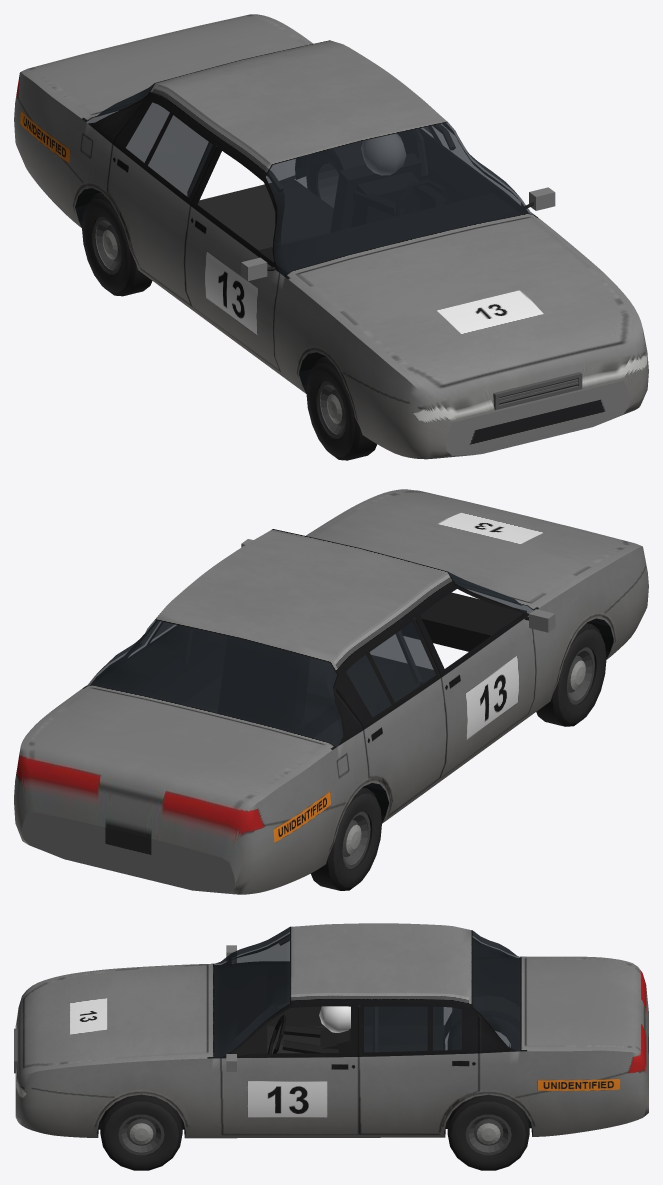
3 renders of one model, top to bottom at view 1: azimuth 30°, elevation 25°; view 2: azimuth 150°, elevation 25°; view 3: azimuth 270°, elevation 25°, orthographic. The views are drawn at different scales.
Visible parts, largest first — view 1: body, wheel_fr, wheel_rr, wheel_rl; view 2: body, wheel_rr, wheel_fr; view 3: body, wheel_fl, wheel_rl, wheel_rr.
Boxes of the visible parts, x1,y1,x2,y2 form: body: (14, 14, 648, 459); wheel_fr: (306, 356, 376, 460); wheel_rr: (82, 192, 152, 296); wheel_rl: (306, 149, 343, 207); body: (14, 489, 648, 894); wheel_rr: (311, 787, 381, 890); wheel_fr: (536, 623, 606, 726); body: (14, 923, 648, 1138); wheel_fl: (100, 1094, 182, 1170); wheel_rl: (447, 1094, 529, 1170); wheel_rr: (448, 1010, 519, 1050).
Bounding box in the file's own units: 2.07 × 1.41 × 4.79.
Materials: 3 (2 with a texture image).
